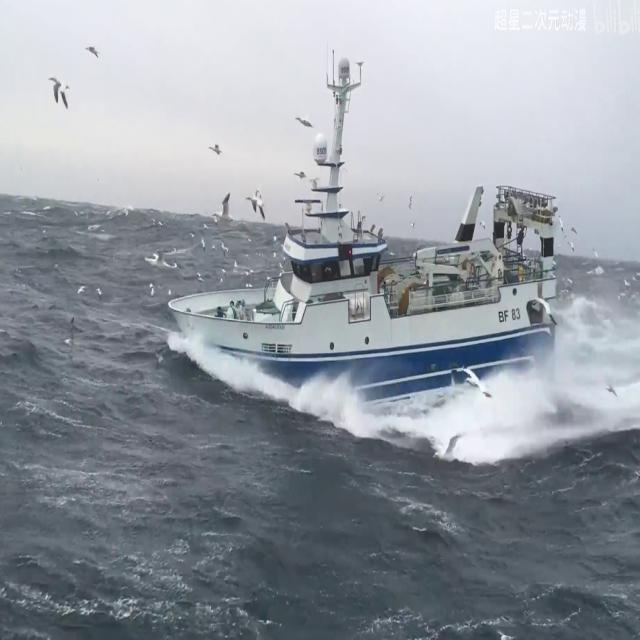houseboat: (178, 59, 548, 435)
